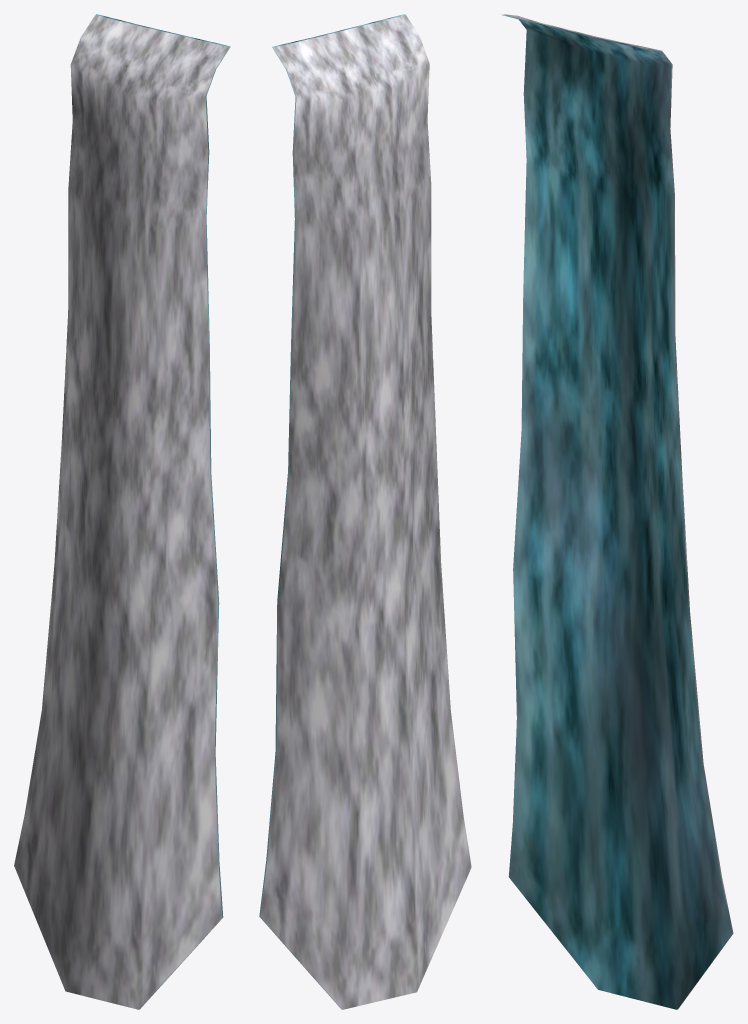
File: OVERHILL_A_01_WATERFALLS06.fbx
3 renders of one model, left to right at view 1: azimuth 90°, elevation 25°; view 2: azimuth 150°, elevation 25°; view 3: azimuth 270°, elevation 25°, orthographic. The views are drawn at different scales.
Parts seen in each view (by area): view 1: OVERHILL_A_01_WATERFALLS06; view 2: OVERHILL_A_01_WATERFALLS06; view 3: OVERHILL_A_01_WATERFALLS06.
Boxes of the visible parts, x1,y1,x2,y2 form: OVERHILL_A_01_WATERFALLS06: (14, 14, 230, 1009); OVERHILL_A_01_WATERFALLS06: (259, 14, 471, 1009); OVERHILL_A_01_WATERFALLS06: (502, 14, 733, 1009).
Bounding box in the file's own units: 33201 × 215450 × 45281.
2 materials, 2 textured.
